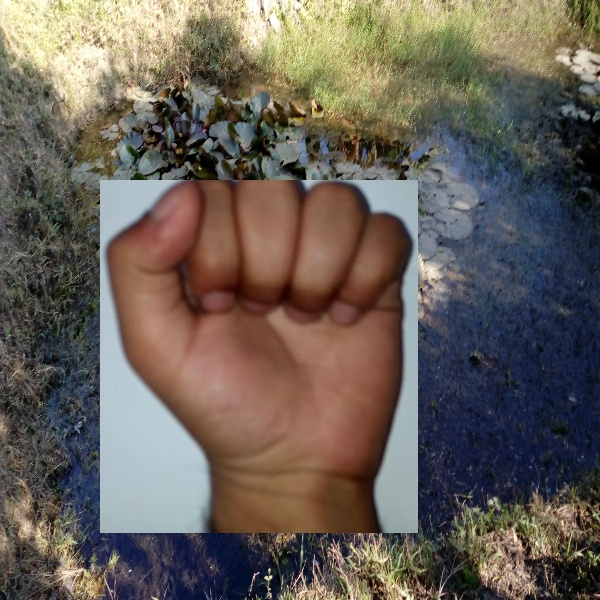A: (100, 180, 418, 533)
